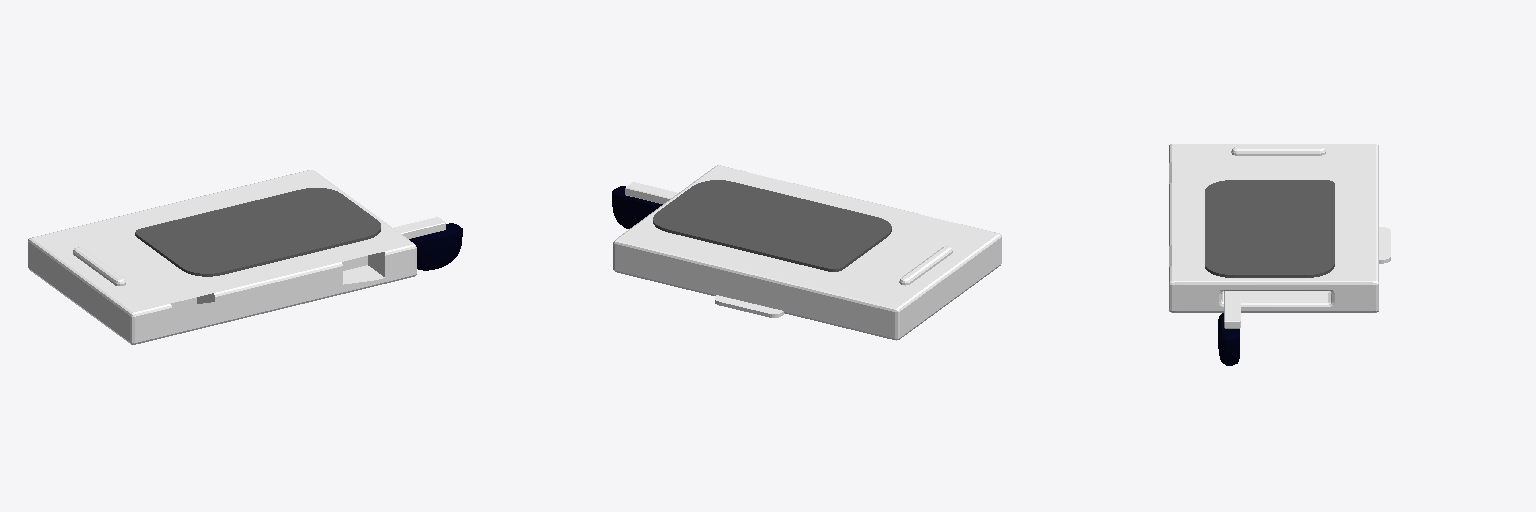
Rendered from DeviceCassetteCover.obj.
3 views of the same model, side by side, from view 1: azimuth 30°, elevation 25°; view 2: azimuth 150°, elevation 25°; view 3: azimuth 270°, elevation 25° (orthographic).
Parts seen in each view (by area): view 1: CassetteCover2 pCube21, CassetteLever CassetteCover2; view 2: CassetteCover2 pCube21, CassetteLever CassetteCover2; view 3: CassetteCover2 pCube21, CassetteLever CassetteCover2.
Part boxes in pixels (x1,y1,x2,y2): CassetteCover2 pCube21: (28, 170, 416, 344); CassetteLever CassetteCover2: (394, 217, 462, 270); CassetteCover2 pCube21: (613, 165, 1001, 340); CassetteLever CassetteCover2: (612, 182, 677, 228); CassetteCover2 pCube21: (1169, 144, 1390, 312); CassetteLever CassetteCover2: (1218, 291, 1240, 365).
Size of the model in its own units: 9.47 by 1.57 by 5.09.